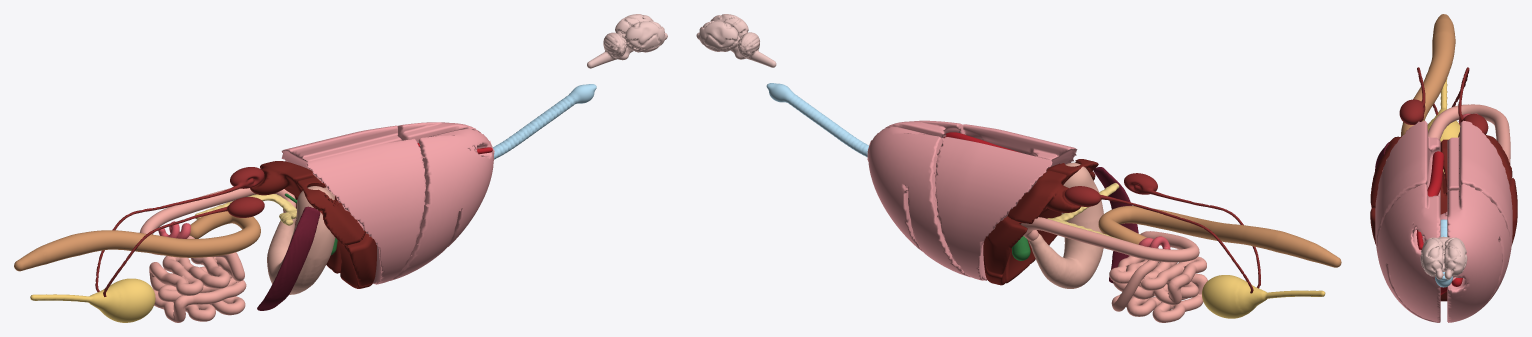
The model's file is dog_organs_model.obj.
3 renders of one model, left to right at view 1: azimuth 30°, elevation 25°; view 2: azimuth 150°, elevation 25°; view 3: azimuth 270°, elevation 25°, orthographic. The views are drawn at different scales.
Parts seen in each view (by area): view 1: dog_lung_left, dog_small_intestine, dog_colon, dog_liver, dog_lung_right, dog_stomach, dog_urinary_bladder, dog_brain, dog_spleen, dog_trachea, dog_kidney_right, dog_kidney_left (+1 smaller); view 2: dog_lung_right, dog_small_intestine, dog_liver, dog_colon, dog_stomach, dog_lung_left, dog_urinary_bladder, dog_brain, dog_trachea, dog_kidney_right, dog_kidney_left, dog_spleen (+1 smaller); view 3: dog_lung_right, dog_lung_left, dog_colon, dog_liver, dog_brain, dog_small_intestine, dog_heart, dog_kidney_left, dog_kidney_right, dog_urinary_bladder, dog_trachea.
Part boxes in pixels (box(x1,y1,x2,y2)): dog_lung_left: box(306, 128, 494, 284); dog_small_intestine: box(139, 188, 296, 322); dog_colon: box(14, 207, 260, 271); dog_liver: box(250, 161, 376, 288); dog_lung_right: box(281, 122, 479, 170); dog_stomach: box(267, 186, 335, 294); dog_urinary_bladder: box(30, 278, 155, 322); dog_brain: box(587, 14, 667, 68); dog_spleen: box(257, 206, 320, 310); dog_trachea: box(493, 84, 596, 159); dog_kidney_right: box(95, 167, 264, 291); dog_kidney_left: box(103, 197, 264, 296); dog_lung_right: box(867, 126, 1052, 280); dog_small_intestine: box(1020, 217, 1207, 322); dog_liver: box(983, 159, 1098, 285); dog_colon: box(1098, 206, 1341, 267); dog_stomach: box(1028, 162, 1103, 288); dog_lung_left: box(882, 120, 1077, 167); dog_urinary_bladder: box(1202, 275, 1325, 318); dog_brain: box(696, 14, 776, 67); dog_trachea: box(766, 83, 868, 157); dog_kidney_right: box(1064, 186, 1253, 293); dog_kidney_left: box(1124, 173, 1260, 288); dog_spleen: box(1093, 167, 1138, 283); dog_lung_right: box(1440, 120, 1512, 322); dog_lung_left: box(1375, 121, 1440, 322); dog_colon: box(1401, 14, 1459, 142); dog_liver: box(1370, 134, 1517, 301); dog_brain: box(1420, 236, 1467, 279); dog_small_intestine: box(1428, 104, 1510, 163); dog_heart: box(1416, 151, 1462, 294); dog_kidney_left: box(1399, 67, 1438, 124); dog_kidney_right: box(1452, 67, 1488, 134); dog_urinary_bladder: box(1427, 78, 1460, 141); dog_trachea: box(1435, 219, 1452, 287).
Size of the model in its own units: 120 by 34.23 by 21.98.
